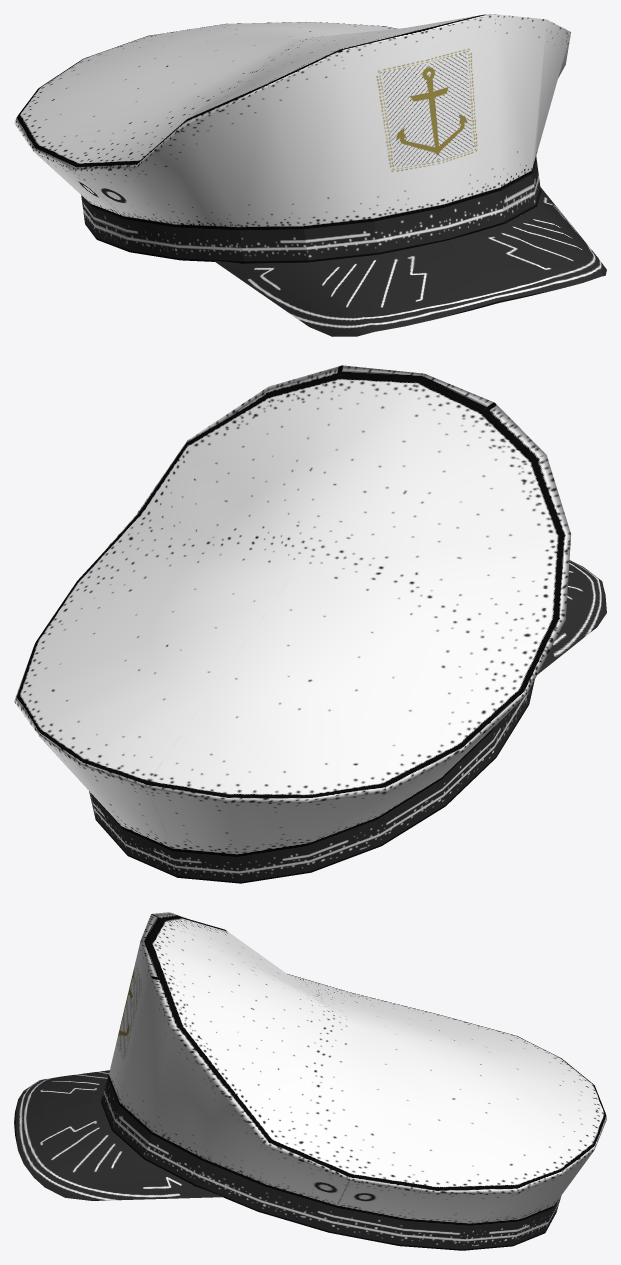
The model's file is CaptainHat.fbx.
The picture shows the model from 3 angles, top to bottom: view 1: azimuth 30°, elevation 25°; view 2: azimuth 150°, elevation 25°; view 3: azimuth 270°, elevation 25°; orthographic projection. The views are drawn at different scales.
Parts seen in each view (by area): view 1: Hat1; view 2: Hat1; view 3: Hat1.
Part boxes in pixels (box(x1,y1,x2,y2)): Hat1: box(14, 14, 606, 336); Hat1: box(14, 365, 606, 883); Hat1: box(14, 912, 606, 1250).
Size of the model in its own units: 11.17 by 7.64 by 15.07.
